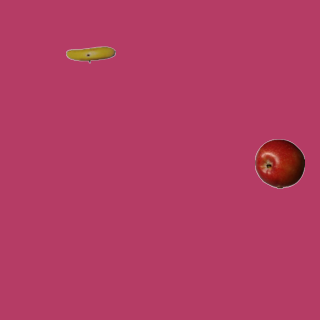Apple Braeburn: (254, 138, 304, 188)
Banana: (65, 29, 115, 79)
